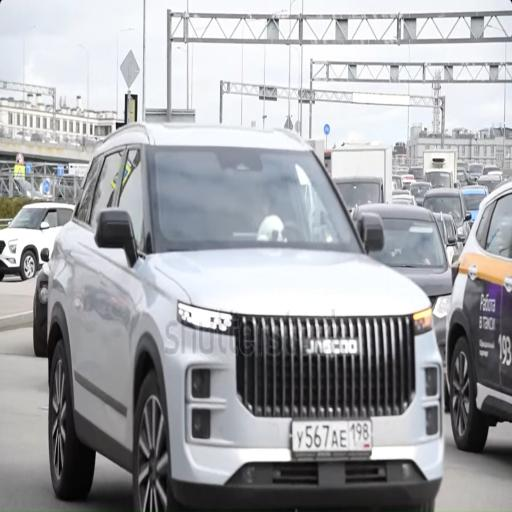License plates: (292, 420, 372, 455)
